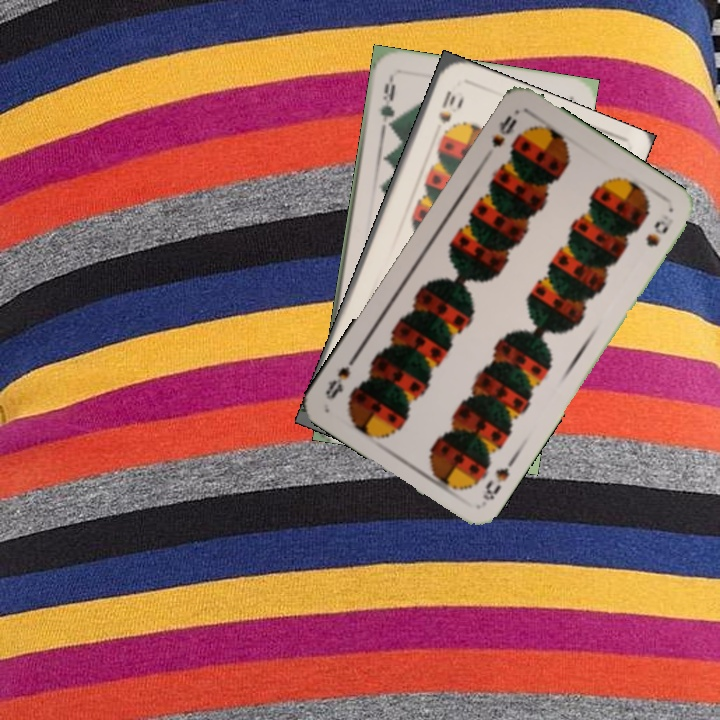G9: (376, 72, 398, 132)
S10: (434, 86, 459, 127)
S8: (478, 453, 518, 504), (487, 110, 520, 150)
